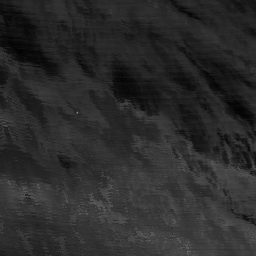Target: (74, 110, 81, 116)
